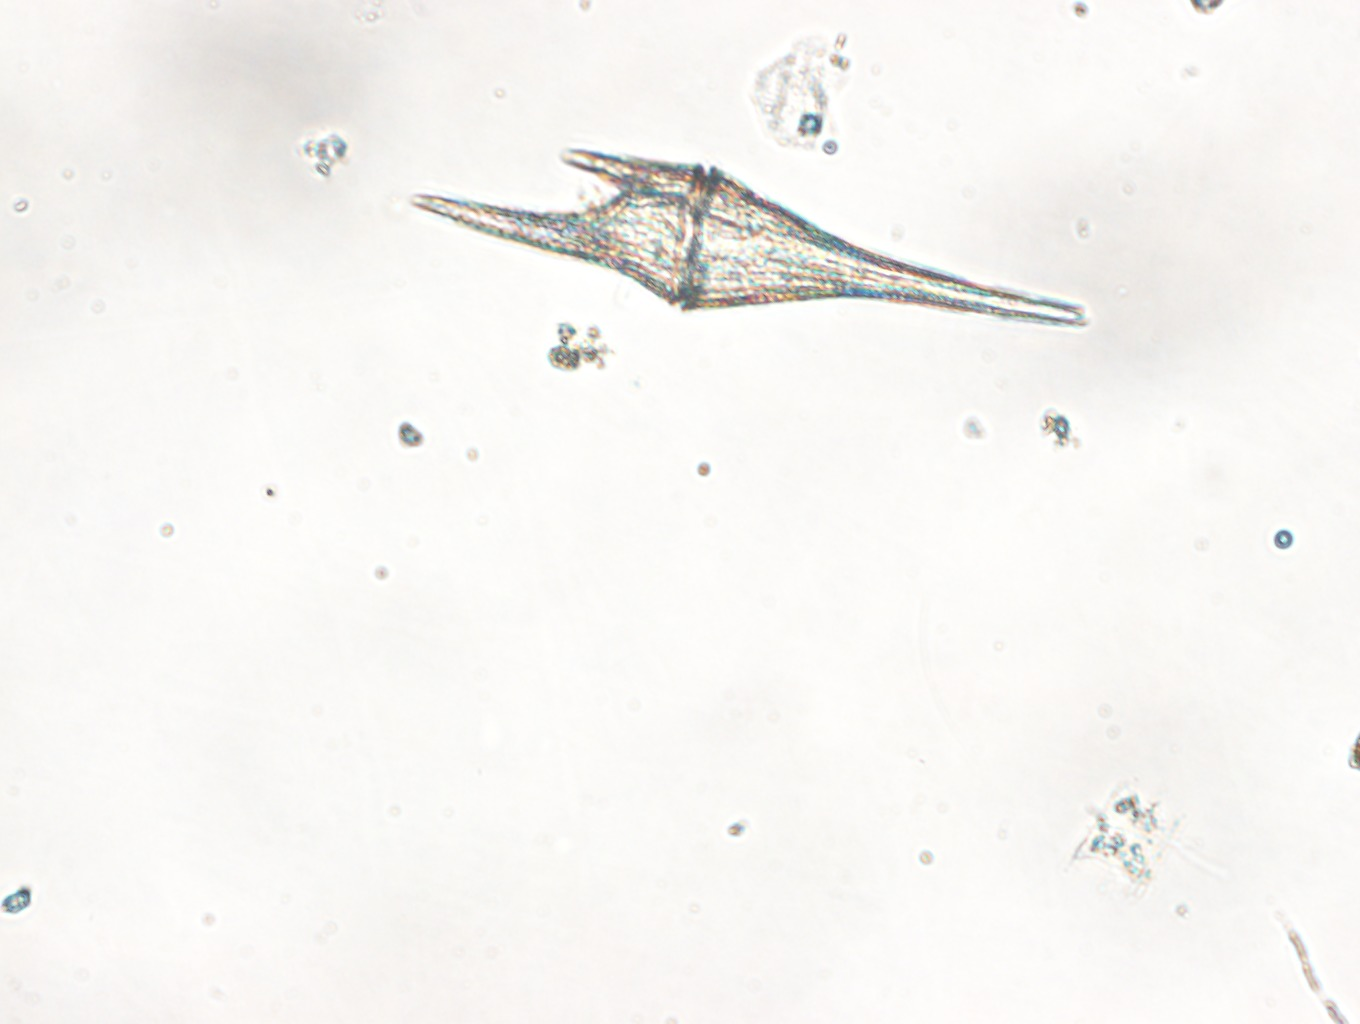ceratium furca: (409, 147, 1085, 325)
